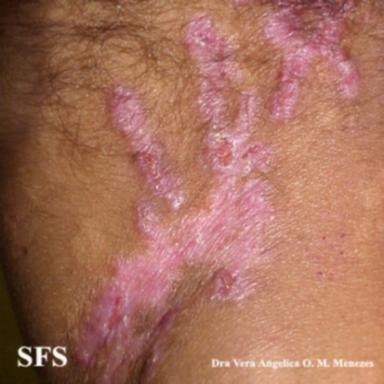Epidermolysis-Bullosa-Pruriginosa: (79, 16, 274, 384), (236, 0, 361, 119), (106, 86, 184, 211)
